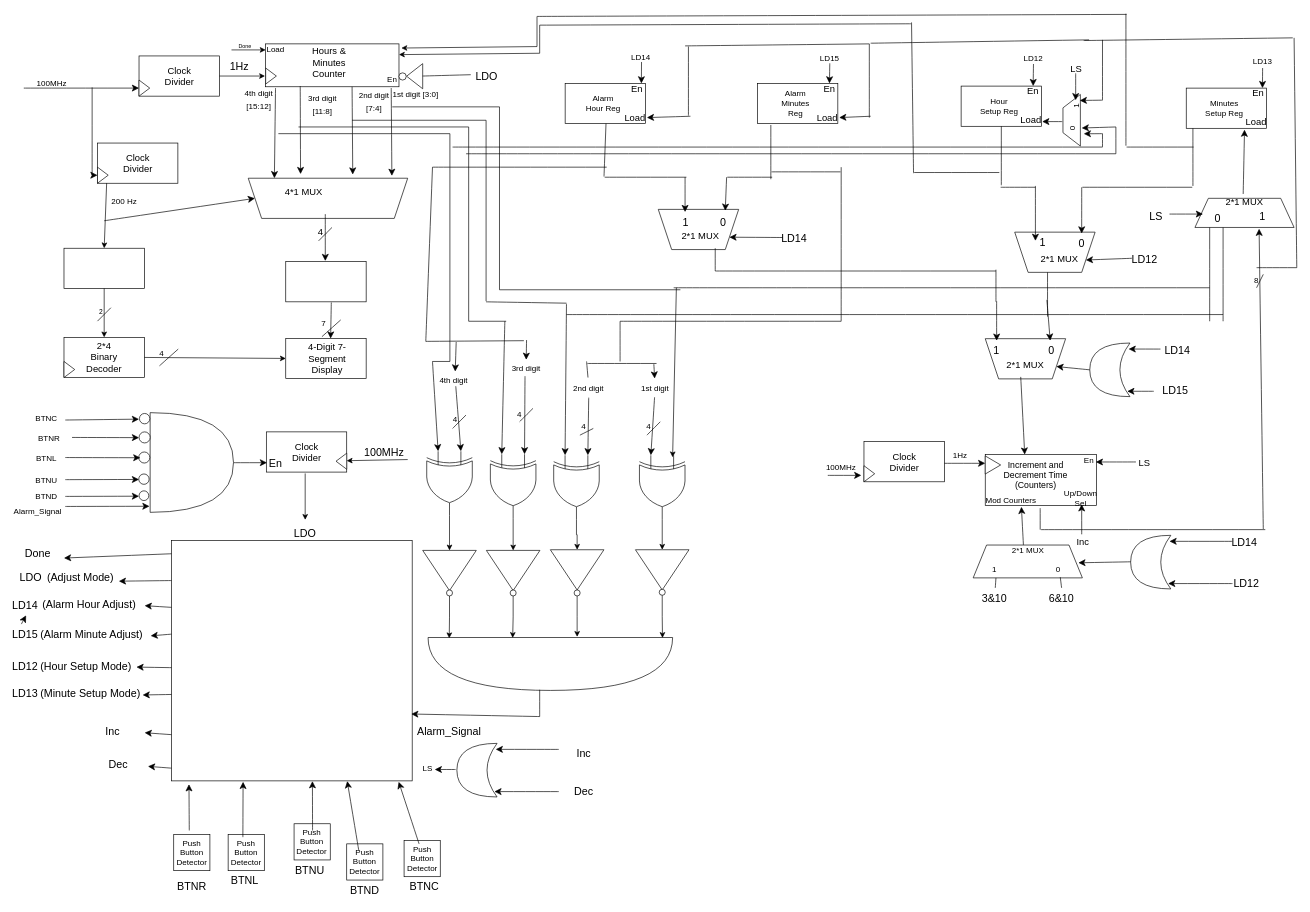
The diagram is 1310 pixels wide and 912 high, and some of its shapes have lost their labels. The shapes that lost their labels are listed below. From the top down, each one's centre as x and y in pixels, then its label:
At pixel 103 268: "2-bit Binary Counter".
At pixel 325 281: "Binary to 7 seg display".
At pixel 291 660: "Control Unit".
